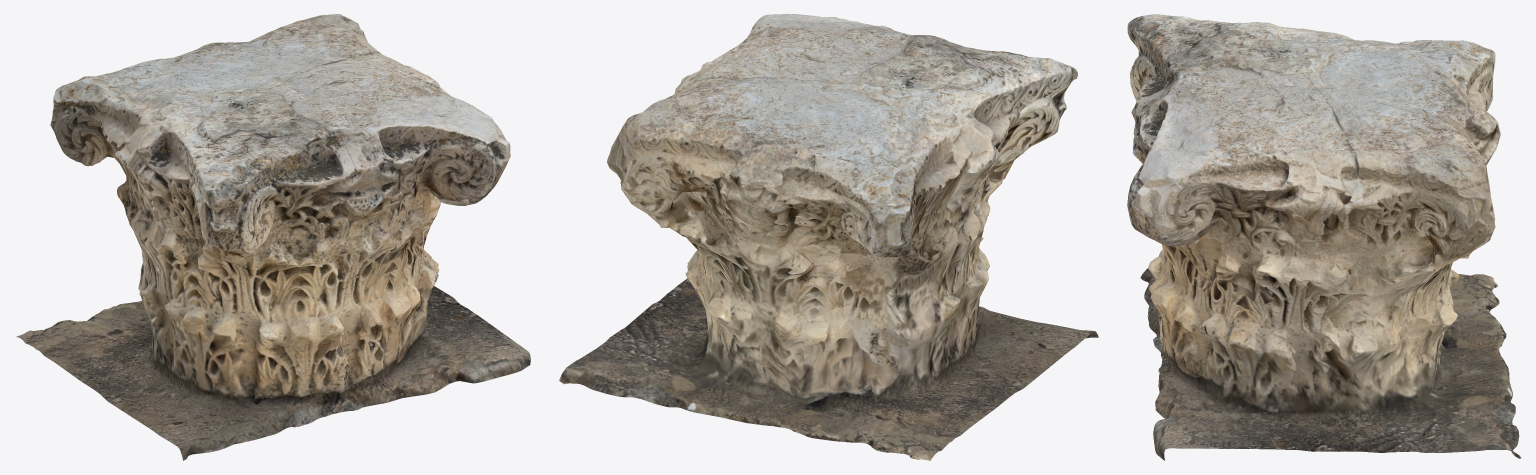
File: corinthian_capital__byrsa_hill_carthage.glb
The picture shows the model from 3 angles, left to right: view 1: azimuth 30°, elevation 25°; view 2: azimuth 150°, elevation 25°; view 3: azimuth 270°, elevation 25°; orthographic projection. The views are drawn at different scales.
Parts seen in each view (by area): view 1: Object_2; view 2: Object_2; view 3: Object_2.
Boxes of the visible parts, x1,y1,x2,y2 form: Object_2: [16, 14, 530, 460]; Object_2: [559, 14, 1098, 460]; Object_2: [1127, 14, 1521, 460].
Bounding box in the file's own units: 0.6507 × 0.4881 × 0.5925.
1 material, 1 textured.
